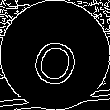O_N: (25, 23, 85, 87)
